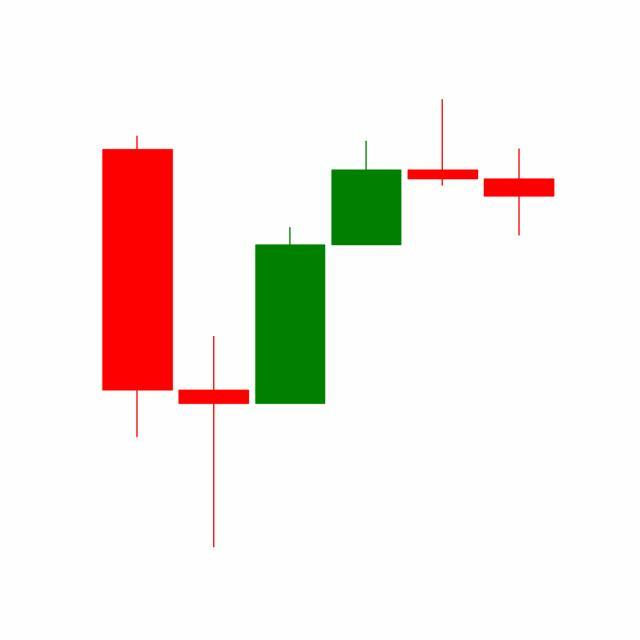Gravestone Doji: (404, 99, 482, 188)
